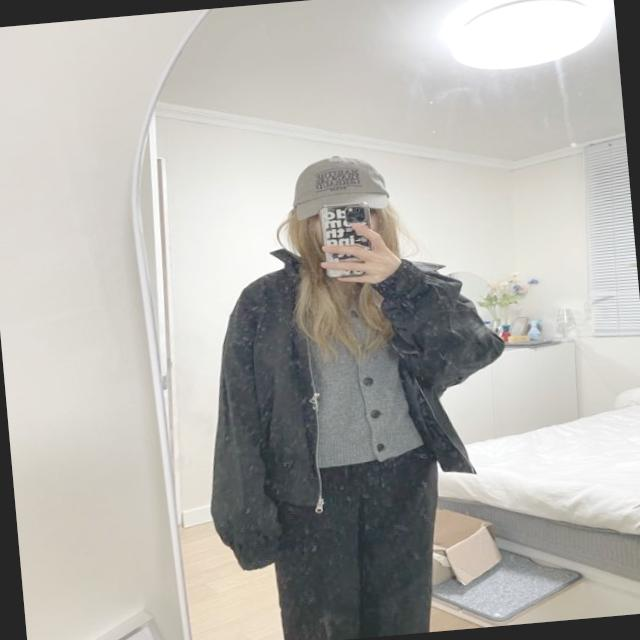jacket: (186, 245, 520, 576)
slacks: (267, 440, 449, 640)
